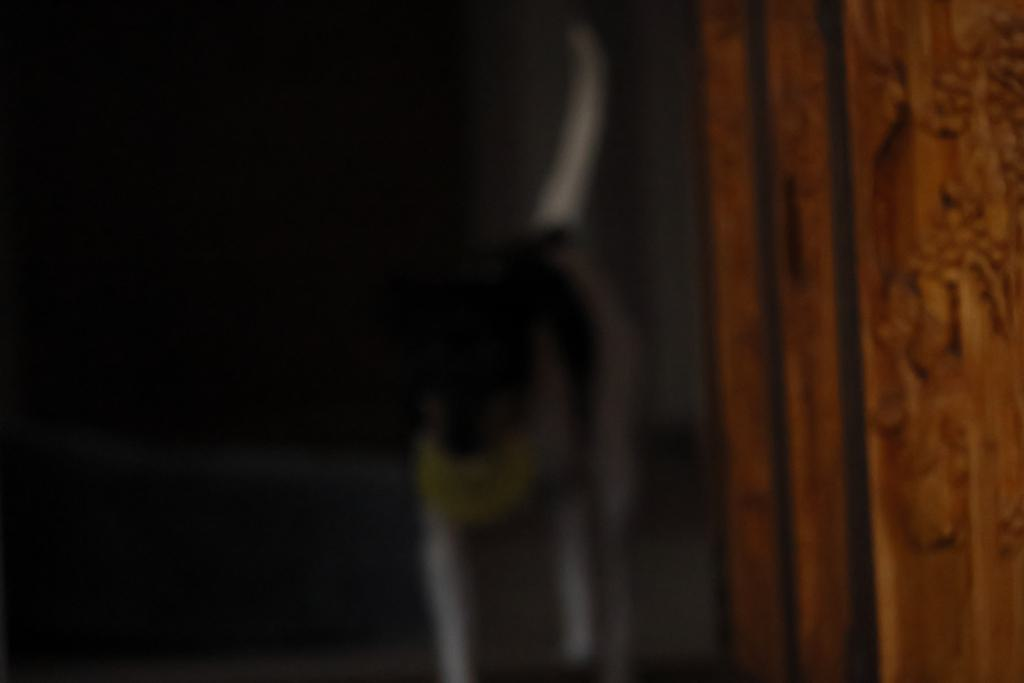Dog: (323, 22, 650, 683)
